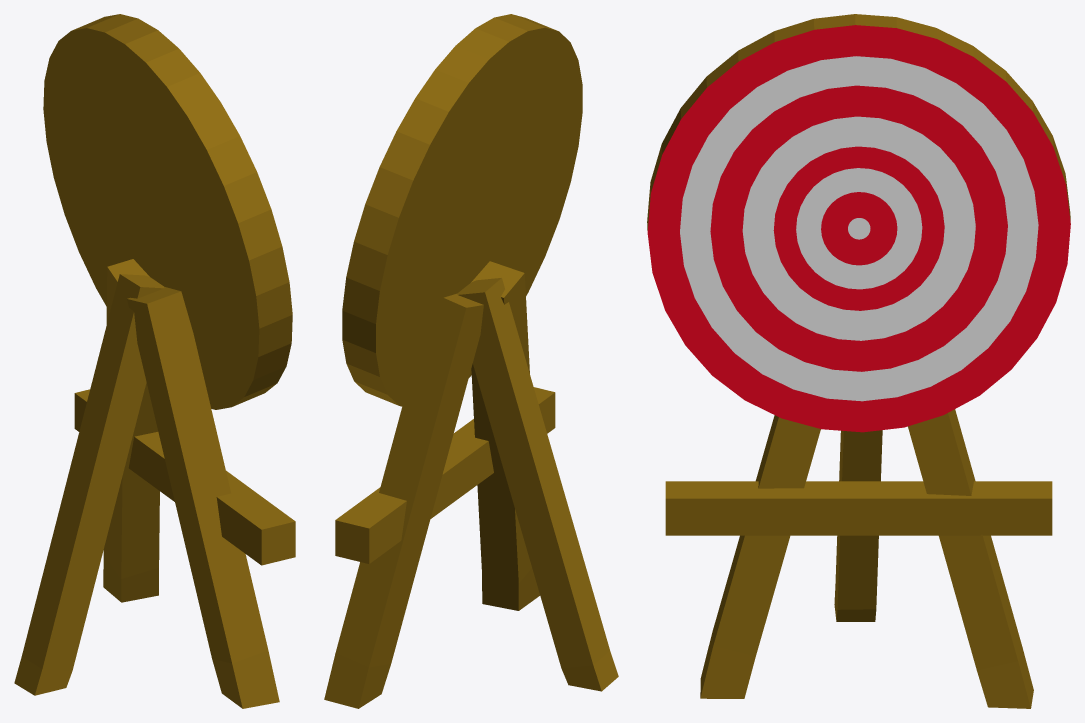
The model's file is target.fbx.
3 renders of one model, left to right at view 1: azimuth 30°, elevation 25°; view 2: azimuth 150°, elevation 25°; view 3: azimuth 270°, elevation 25°, orthographic. The views are drawn at different scales.
Parts seen in each view (by area): view 1: Circle; view 2: Circle; view 3: Circle.
Part boxes in pixels (bbox=[...]): Circle: bbox=[14, 14, 295, 708]; Circle: bbox=[324, 14, 618, 708]; Circle: bbox=[647, 14, 1070, 708].
Bounding box in the file's own units: 62.74 × 186 × 110.
